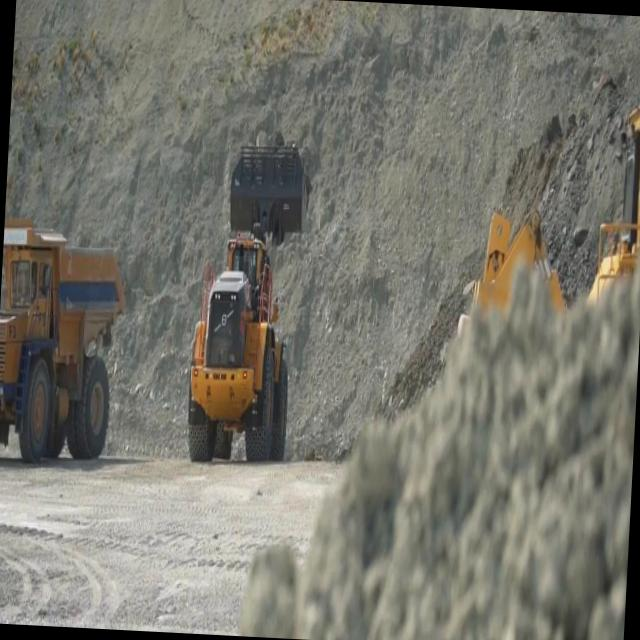Dump Truck: (0, 211, 132, 469)
Loader: (182, 133, 314, 464)
